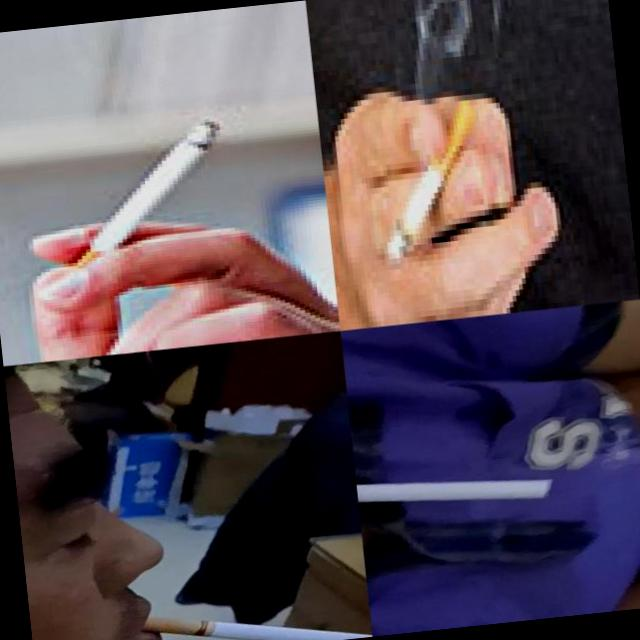cigarette: (41, 116, 237, 289), (372, 98, 489, 262), (355, 454, 561, 519), (139, 594, 371, 640)
